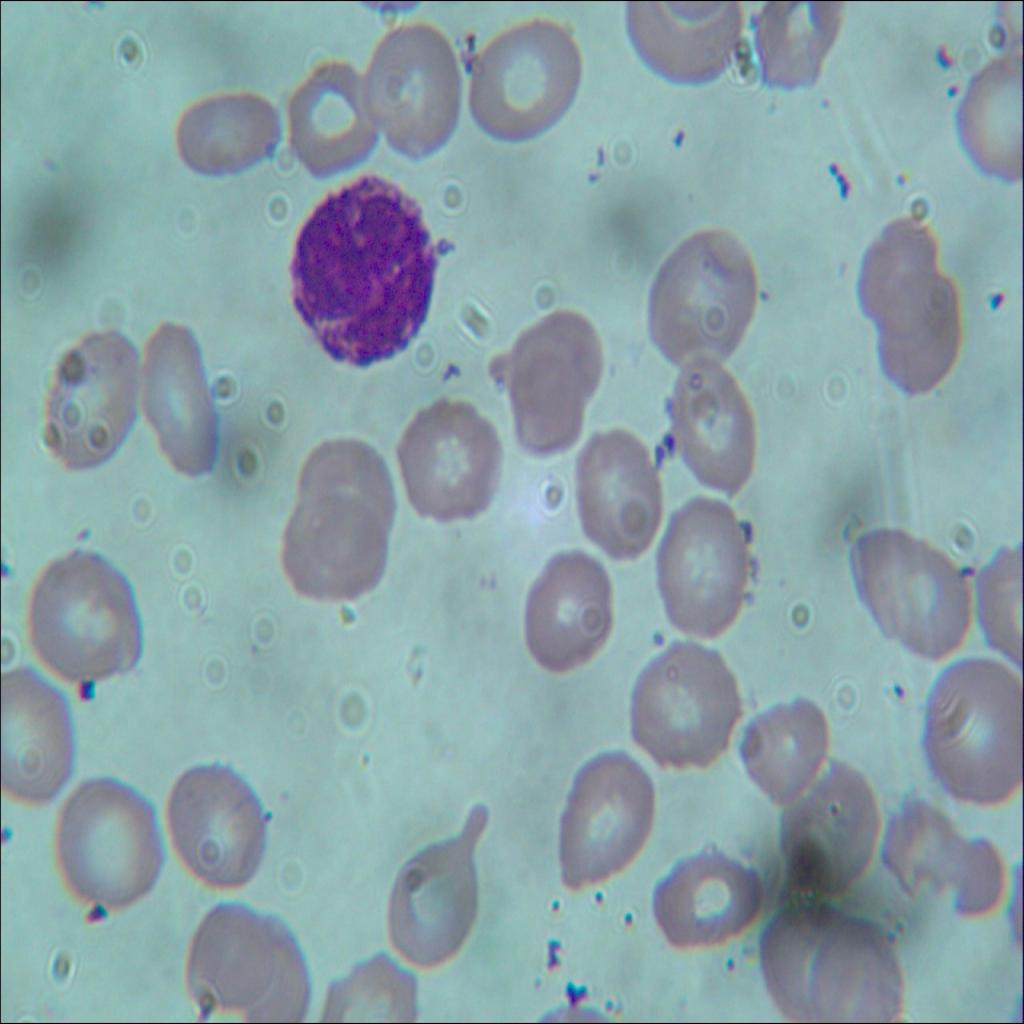Eosinofil: (286, 177, 438, 367)
Eritrosit: (626, 218, 756, 378), (48, 770, 166, 921), (462, 9, 586, 148), (850, 521, 972, 660), (648, 491, 762, 638), (498, 315, 606, 464), (130, 312, 224, 482), (919, 658, 1023, 811), (551, 748, 661, 890), (626, 642, 742, 776), (42, 316, 139, 474), (883, 794, 1004, 920), (24, 554, 139, 680), (664, 348, 762, 494), (779, 758, 879, 900), (164, 752, 266, 891), (378, 838, 490, 964), (398, 395, 502, 528), (368, 18, 463, 162), (278, 491, 392, 607), (566, 426, 663, 559), (758, 894, 858, 1023), (616, 0, 750, 94), (166, 85, 284, 188), (0, 663, 78, 812), (874, 266, 964, 394), (293, 431, 396, 542), (526, 548, 616, 672), (281, 59, 378, 174), (649, 842, 756, 944), (854, 214, 938, 334), (738, 694, 826, 808), (954, 44, 1023, 183), (809, 924, 904, 1023), (230, 915, 313, 1023), (184, 900, 268, 1004), (310, 945, 420, 1023), (751, 0, 838, 92)
Platelet: (63, 664, 102, 710), (884, 671, 919, 717), (721, 948, 755, 995), (644, 625, 676, 660), (614, 900, 639, 944), (64, 518, 93, 554), (86, 895, 112, 932), (886, 158, 910, 195), (586, 878, 610, 914), (544, 882, 566, 915), (939, 74, 963, 104), (984, 278, 1004, 314), (669, 124, 693, 148), (0, 557, 15, 592), (0, 817, 13, 854), (600, 989, 618, 1015)
